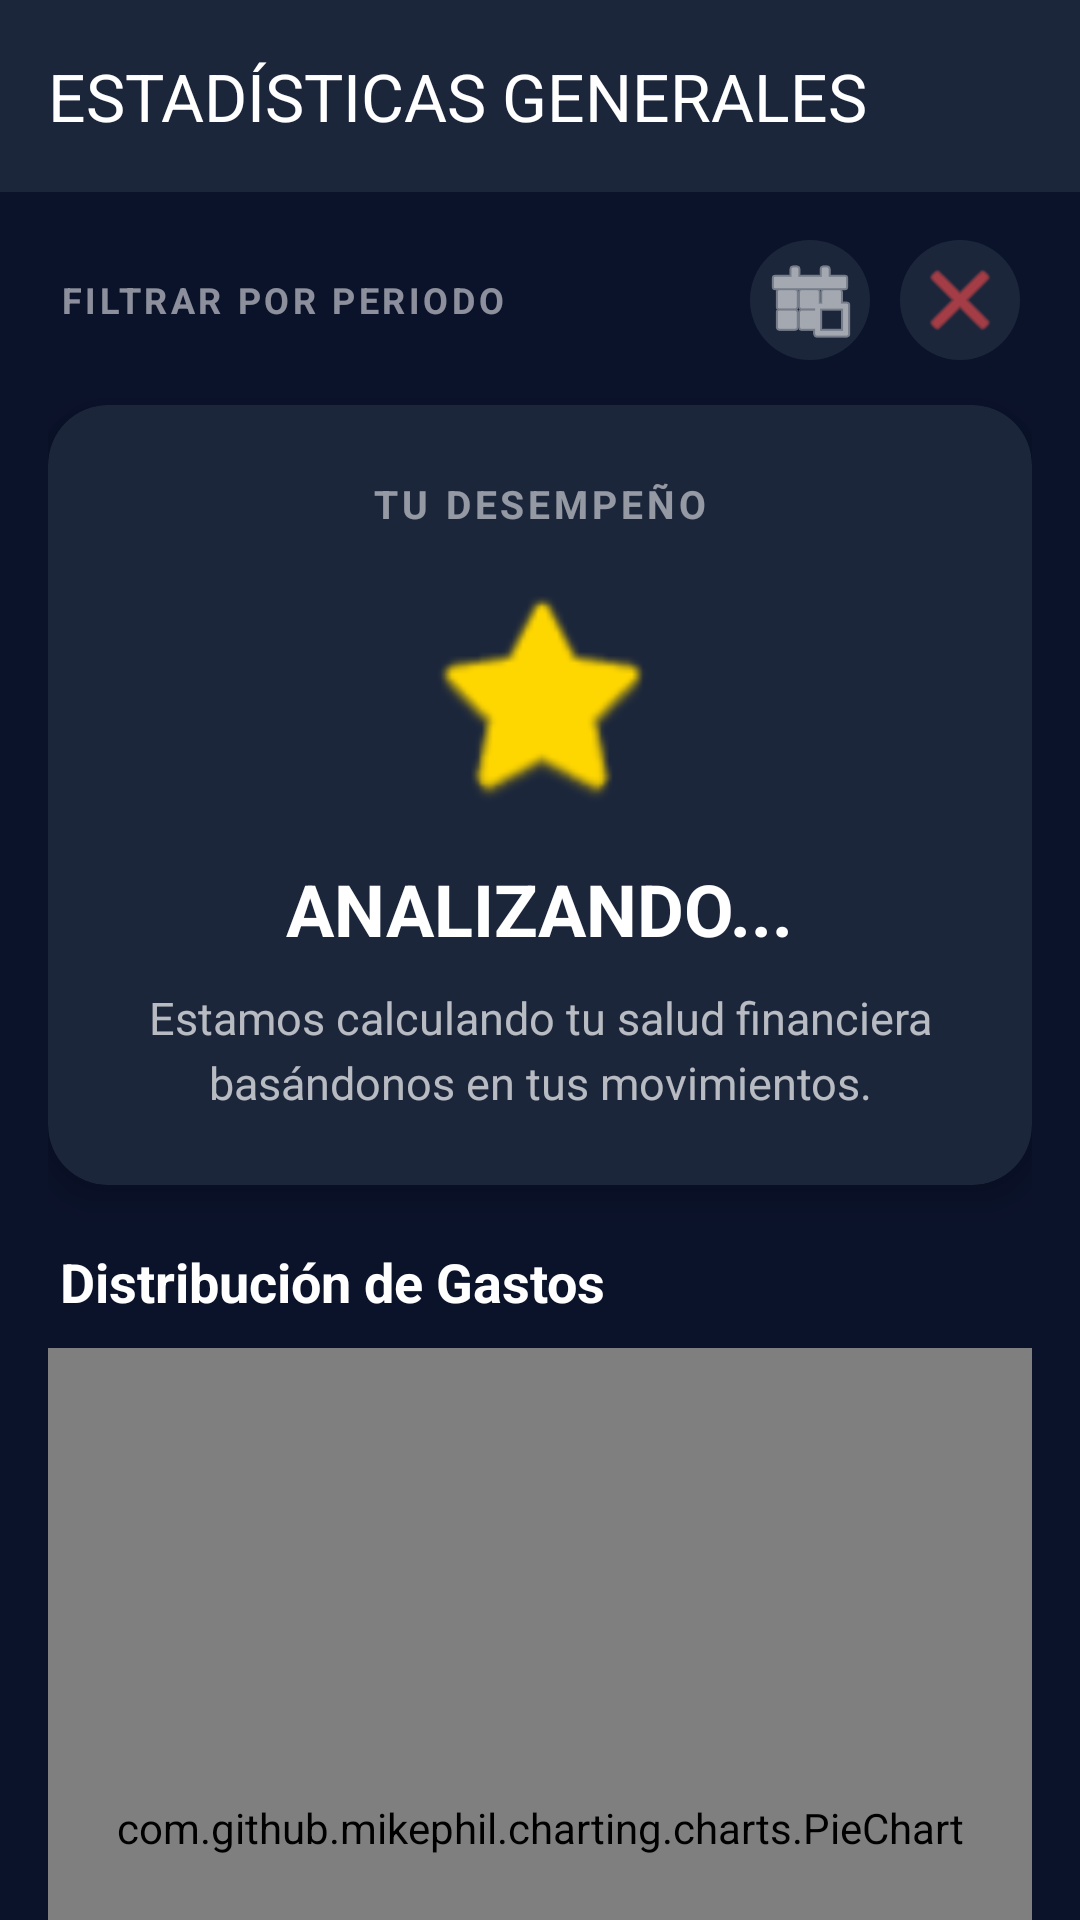

Where icons sit on this 1080×1920 app screen, as (x1, y1, x2, y2):
Limpiar: (929, 269, 991, 331)
star on: (442, 599, 642, 794)
